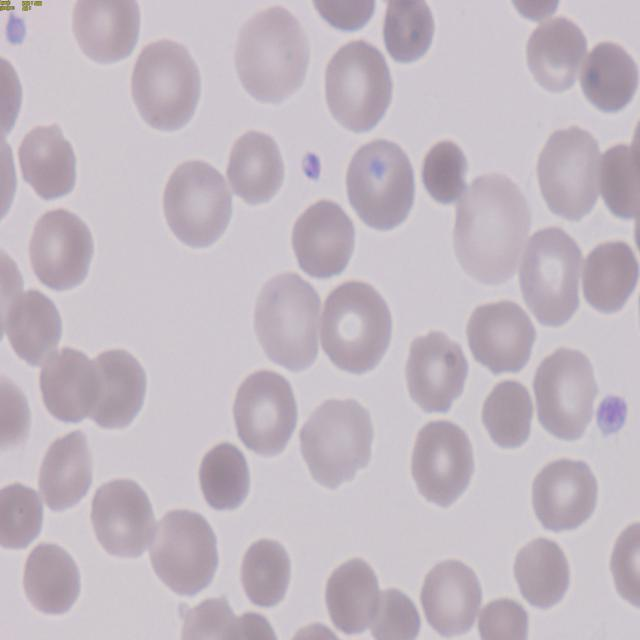Platelets: (0, 12, 32, 56)
RBC: (237, 286, 310, 434), (449, 173, 527, 288), (231, 1, 314, 108), (249, 268, 324, 378), (317, 276, 396, 378), (514, 221, 586, 329), (344, 132, 420, 234), (145, 506, 221, 606), (322, 38, 398, 138), (533, 123, 604, 229), (128, 34, 204, 133), (298, 392, 373, 489), (530, 347, 600, 448), (162, 156, 236, 250), (228, 364, 298, 458), (407, 414, 476, 509), (24, 206, 94, 298), (518, 18, 592, 104), (290, 198, 360, 286), (401, 328, 468, 419), (89, 476, 158, 564), (530, 454, 602, 536), (467, 298, 540, 378), (38, 346, 104, 429), (420, 558, 486, 640), (18, 126, 82, 210), (579, 234, 640, 321), (2, 288, 64, 371), (23, 540, 86, 621), (38, 431, 98, 516), (70, 0, 142, 70), (223, 130, 283, 212), (582, 39, 640, 120), (478, 375, 536, 454), (593, 137, 640, 228), (377, 0, 436, 69), (0, 482, 47, 556), (608, 520, 640, 614), (307, 0, 381, 39), (476, 592, 532, 640), (0, 49, 22, 146), (0, 128, 20, 231), (499, 0, 569, 25)
Spherocyte: (510, 535, 572, 617), (324, 558, 384, 640), (194, 442, 254, 521), (235, 537, 295, 613), (420, 140, 470, 204)
